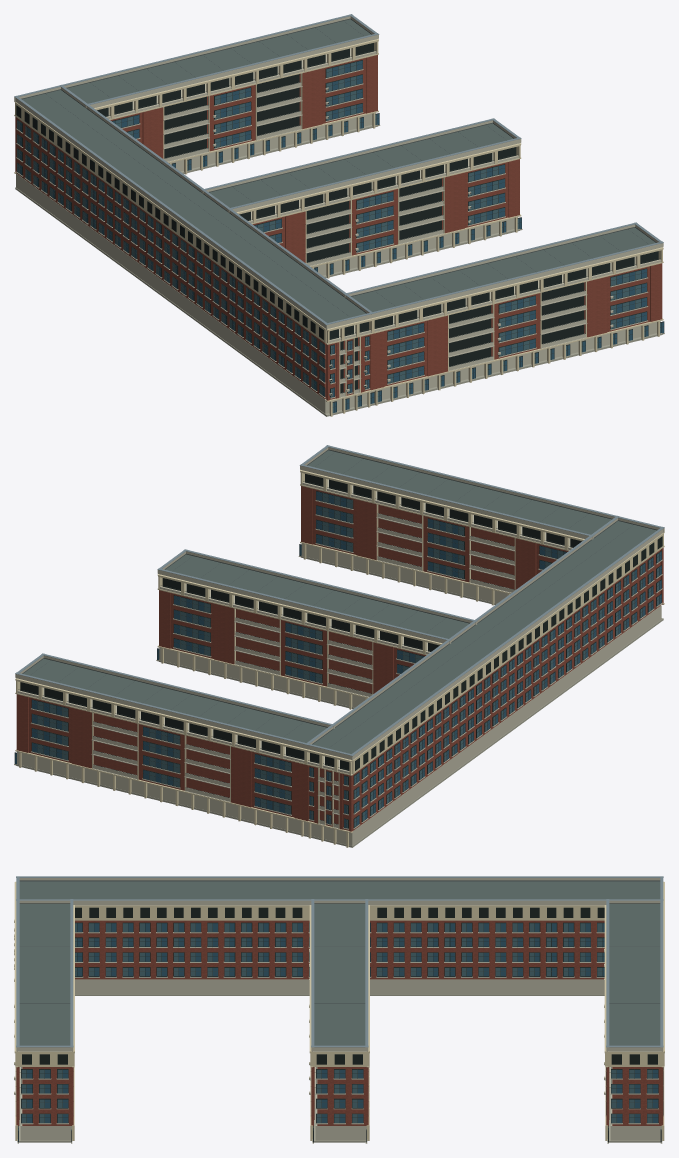
3 renders of one model, top to bottom at view 1: azimuth 30°, elevation 25°; view 2: azimuth 150°, elevation 25°; view 3: azimuth 270°, elevation 25°, orthographic. The views are drawn at different scales.
Parts seen in each view (by area): view 1: WestWing_SetBackFlatRoofFinish, WestWing_SetBackBrickCore, WestWing_SideRoom_GlassPane, MiddleWing_SetBackFlatRoofFinish, SouthWing_SetBackFlatRoofFinish, NorthWing_SetBackFlatRoofFinish, WestWing_PaleStoneGroundBody, SouthWing_BroadSolidBrickPiers, WestWing_SideRoom_ThinDarkMullion, SouthWing_DeepLoggiaRearShadow, MiddleWing_DeepLoggiaRearShadow, WestWing_UpperSideIvoryWall (+60 smaller); view 2: WestWing_SetBackFlatRoofFinish, WestWing_SetBackBrickCore, WestWing_SideRoom_GlassPane, MiddleWing_SetBackFlatRoofFinish, NorthWing_SetBackFlatRoofFinish, SouthWing_SetBackFlatRoofFinish, WestWing_PaleStoneGroundBody, NorthWing_BroadSolidBrickPiers, WestWing_SideRoom_ThinDarkMullion, NorthWing_SetBackBrickCore, MiddleWing_SetBackBrickCore, SouthWing_SetBackBrickCore (+56 smaller); view 3: WestWing_SetBackBrickCore, WestWing_SetBackFlatRoofFinish, WestWing_SideRoom_GlassPane, NorthWing_SetBackFlatRoofFinish, SouthWing_SetBackFlatRoofFinish, MiddleWing_SetBackFlatRoofFinish, WestWing_PaleStoneGroundBody, WestWing_UpperSideIvoryWall, WestWing_WhiteRoofParapet, WestWing_SideRoom_RecessShadow, WestWing_SideAtticDarkOpenings, WestWing_SideRoom_DarkWindowTransom (+25 smaller).
Boxes of the visible parts, x1,y1,x2,y2 form: WestWing_SetBackFlatRoofFinish: (22,90,365,322); WestWing_SetBackBrickCore: (16,117,359,398); WestWing_SideRoom_GlassPane: (17,120,324,396); MiddleWing_SetBackFlatRoofFinish: (209,123,513,207); SouthWing_SetBackFlatRoofFinish: (352,227,655,311); NorthWing_SetBackFlatRoofFinish: (67,19,370,103); WestWing_PaleStoneGroundBody: (16,173,370,413); SouthWing_BroadSolidBrickPiers: (372,263,662,389); WestWing_SideRoom_ThinDarkMullion: (17,120,324,396); SouthWing_DeepLoggiaRearShadow: (449,282,584,366); MiddleWing_DeepLoggiaRearShadow: (306,178,441,262); WestWing_UpperSideIvoryWall: (15,102,326,343); WestWing_SetBackFlatRoofFinish: (313,521,656,753); WestWing_SetBackBrickCore: (319,550,660,831); WestWing_SideRoom_GlassPane: (354,551,661,827); MiddleWing_SetBackFlatRoofFinish: (165,554,469,638); NorthWing_SetBackFlatRoofFinish: (23,658,326,742); SouthWing_SetBackFlatRoofFinish: (308,450,611,534); WestWing_PaleStoneGroundBody: (306,605,661,845); NorthWing_BroadSolidBrickPiers: (16,694,306,820); WestWing_SideRoom_ThinDarkMullion: (354,551,661,827); NorthWing_SetBackBrickCore: (93,713,229,797); MiddleWing_SetBackBrickCore: (236,609,372,693); SouthWing_SetBackBrickCore: (378,505,514,589); WestWing_SetBackBrickCore: (75,920,604,979); WestWing_SetBackFlatRoofFinish: (19,881,660,899); WestWing_SideRoom_GlassPane: (75,923,604,976); NorthWing_SetBackFlatRoofFinish: (609,904,660,1045); SouthWing_SetBackFlatRoofFinish: (19,904,70,1045); MiddleWing_SetBackFlatRoofFinish: (314,904,365,1045); WestWing_PaleStoneGroundBody: (75,979,604,993); WestWing_UpperSideIvoryWall: (75,905,604,920); WestWing_WhiteRoofParapet: (19,878,660,904); WestWing_SideRoom_RecessShadow: (75,922,604,976); WestWing_SideAtticDarkOpenings: (75,907,604,917); WestWing_SideRoom_DarkWindowTransom: (75,923,604,976).
Size of the model in its own units: 90.43 by 23.56 by 145.
Materials: 12 (1 with a texture image).
